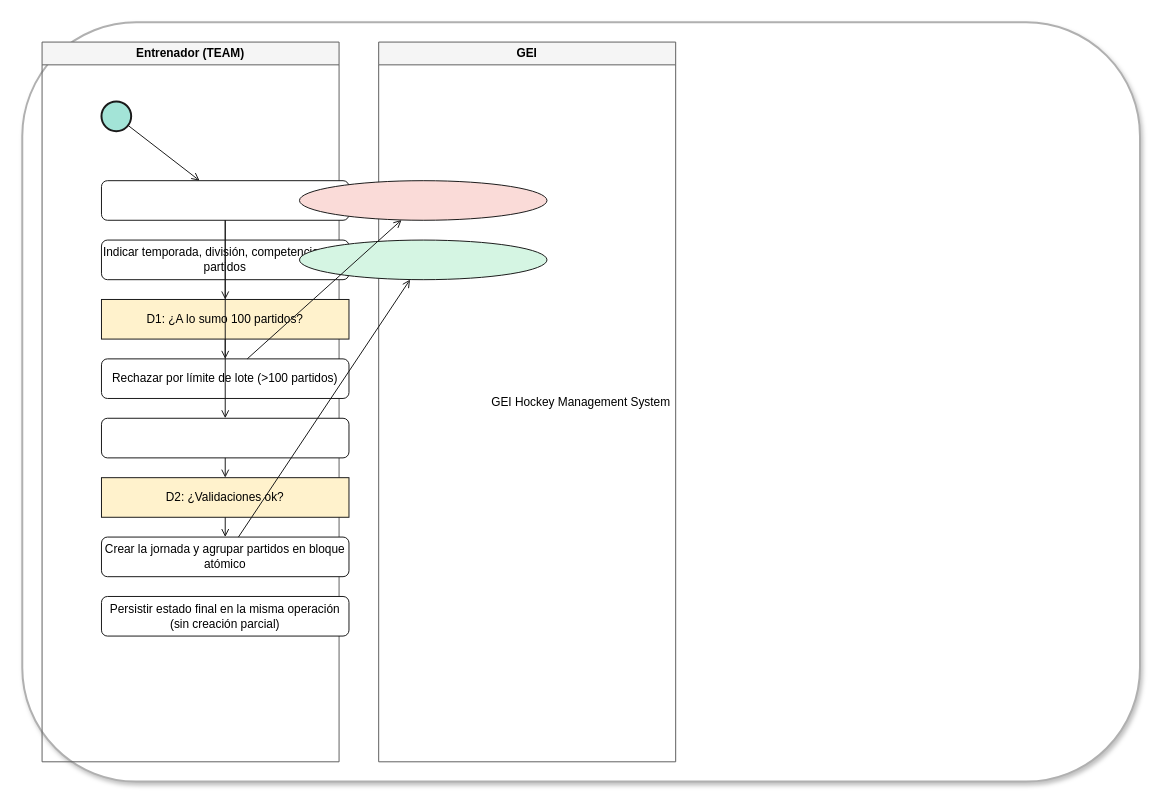
Some shapes in this 1163 by 806 pixel diagram are drawn without their labels. Each missing label, with the centre of its shape:
F1: Operación rechazada (0 creación parcial): (422,200)
F2: Jornada creada con partidos agrupados: (422,259)
Iniciar la programación de la jornada: (224,200)
Validar autoridad, pertenencia única, temporada y reglas inscripción: (224,437)
